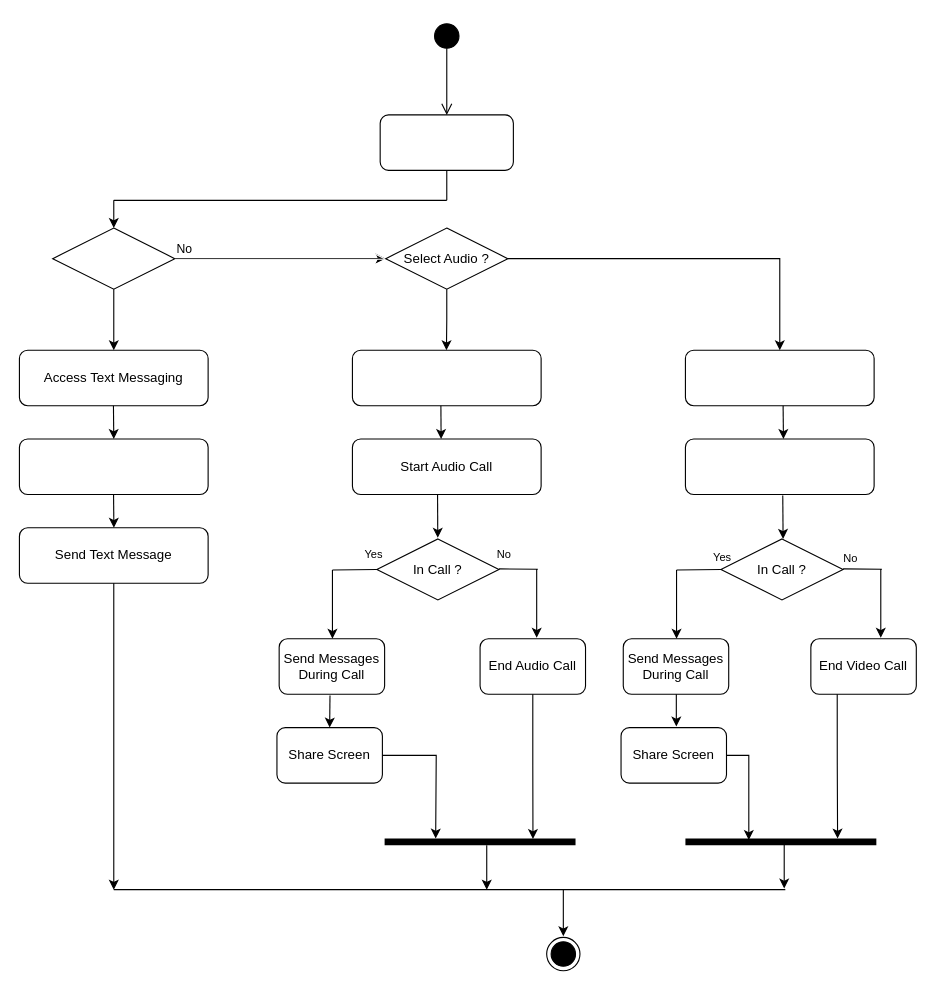
This 936x990 diagram has some shape labels left out. Here are the shapes that lost their labels. From the top down, the centre of each, then its label:
At [446,142]: "Access Messaging".
At [113,258]: "Select Text ?".
At [446,377]: "Access Audio Messaging".
At [779,377]: "Access Video Messaging".
At [113,466]: "Compose Text Message".
At [779,466]: "Start Video Call".
